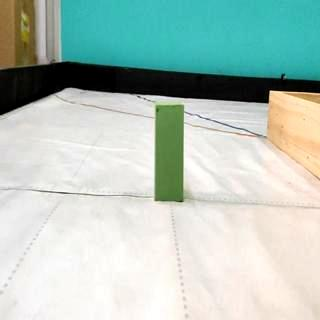greenbox: (152, 103, 185, 201)
